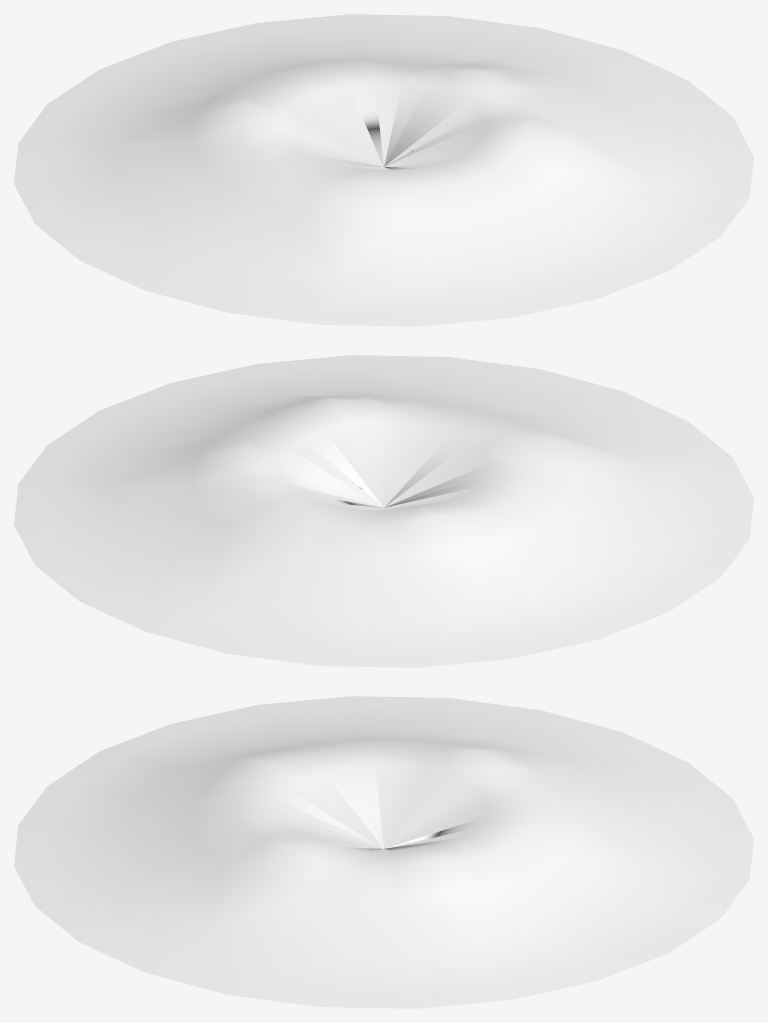
File: VFX_Teleport.fbx
The picture shows the model from 3 angles, top to bottom: view 1: azimuth 30°, elevation 25°; view 2: azimuth 150°, elevation 25°; view 3: azimuth 270°, elevation 25°; orthographic projection.
Visible parts, largest first — view 1: vfx_Teleport; view 2: vfx_Teleport; view 3: vfx_Teleport.
Part boxes in pixels (box(x1,y1,x2,y2)): vfx_Teleport: box(14, 14, 753, 326); vfx_Teleport: box(14, 355, 753, 667); vfx_Teleport: box(14, 696, 753, 1008).
Size of the model in its own units: 860 by 69.58 by 860.
